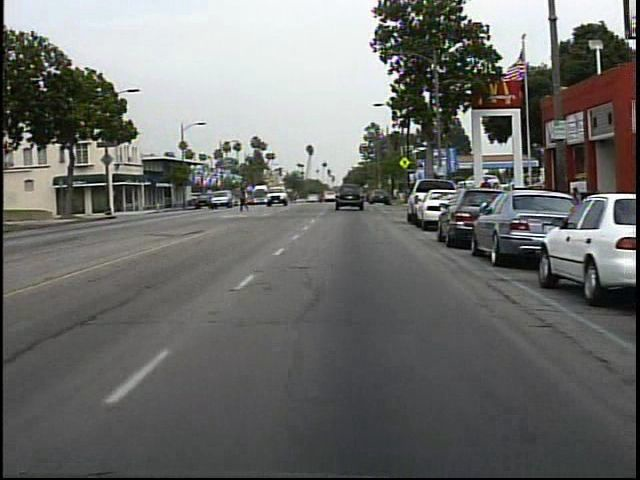person: (476, 173, 497, 217), (236, 182, 254, 215)
